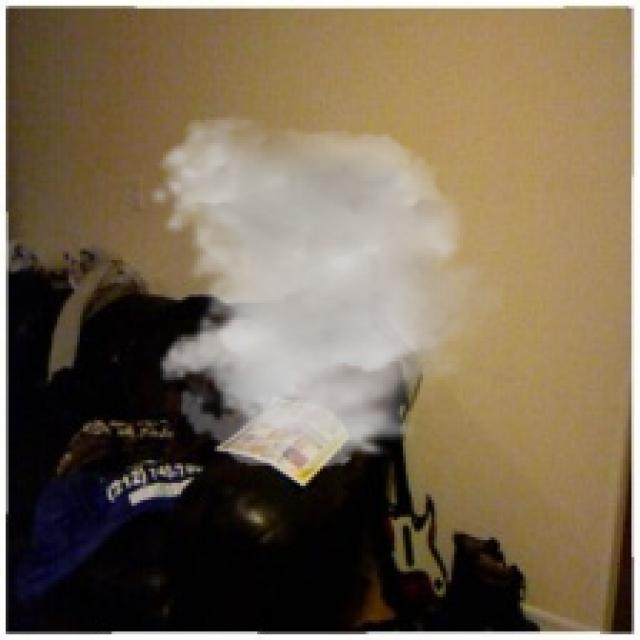smoke: (146, 114, 511, 472)
